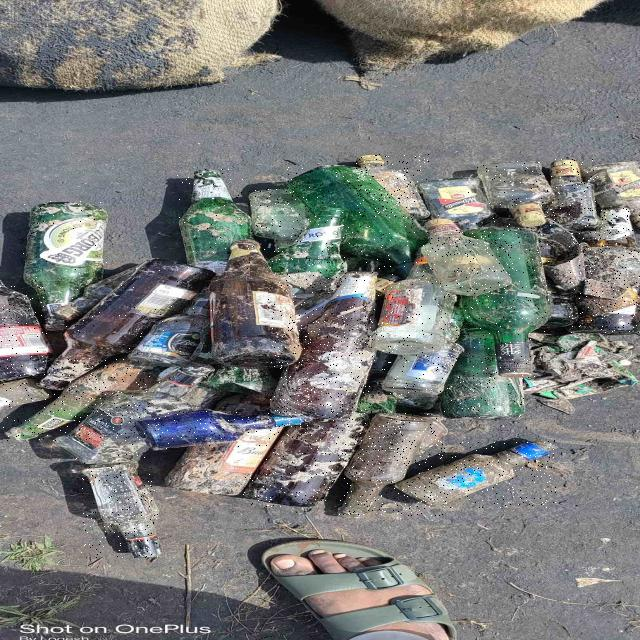glass: (38, 259, 213, 390), (270, 272, 375, 420), (287, 166, 428, 266), (462, 226, 549, 378), (4, 359, 150, 441), (207, 240, 300, 368), (242, 414, 370, 507), (339, 413, 444, 516), (396, 441, 556, 508), (22, 202, 105, 330), (569, 208, 640, 334), (269, 209, 345, 320), (373, 258, 456, 355), (440, 324, 524, 419), (177, 169, 250, 274), (53, 392, 153, 466), (420, 218, 511, 296), (81, 467, 158, 558), (127, 293, 208, 367), (136, 411, 266, 449), (0, 283, 47, 383), (356, 155, 429, 218), (382, 343, 463, 396), (418, 177, 491, 230), (545, 160, 599, 230), (248, 189, 309, 250), (478, 162, 555, 207), (270, 418, 309, 427)
